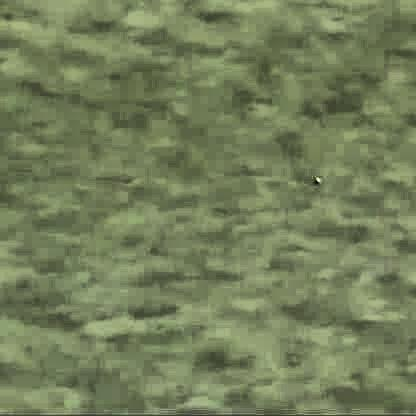golfball: (310, 174, 317, 181)
